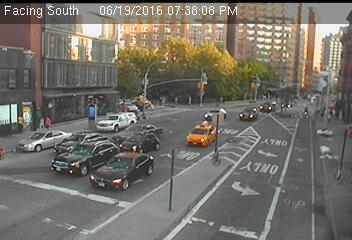pos: (30, 115, 46, 137), (46, 114, 56, 127)
